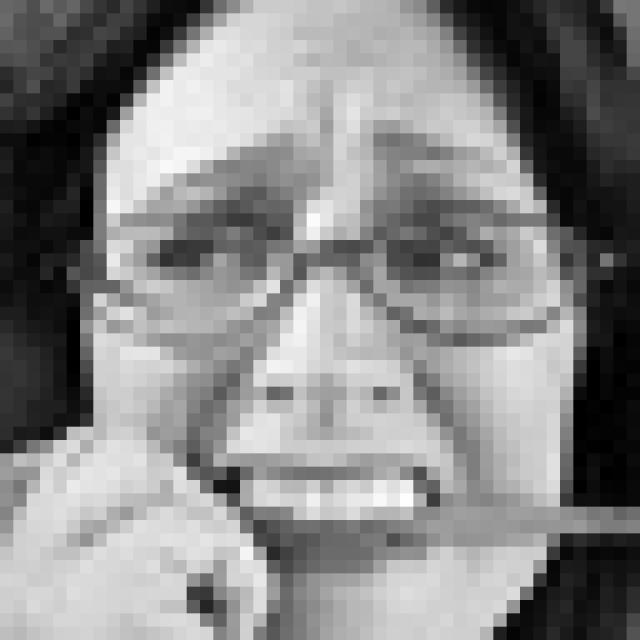fear: (122, 117, 564, 590)
